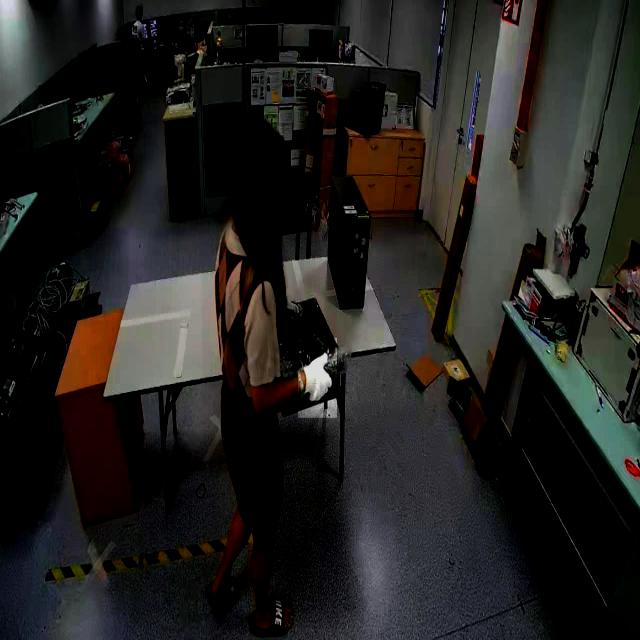face_mask: (176, 22, 184, 39)
hand_glove: (298, 338, 337, 418)
head_nohelmet: (228, 113, 282, 159), (136, 4, 143, 12), (178, 16, 184, 21)
person: (202, 140, 338, 623), (171, 10, 187, 84)
